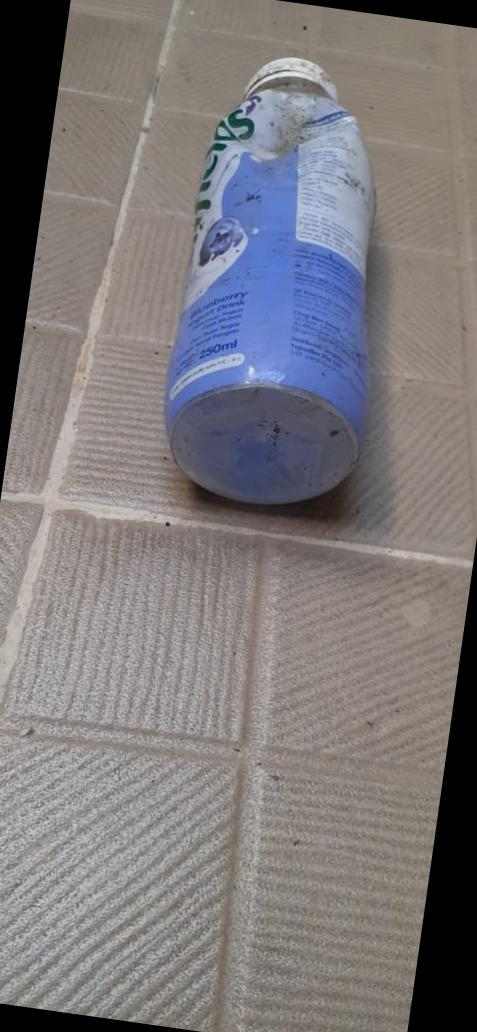Plastik: (146, 44, 414, 526)
